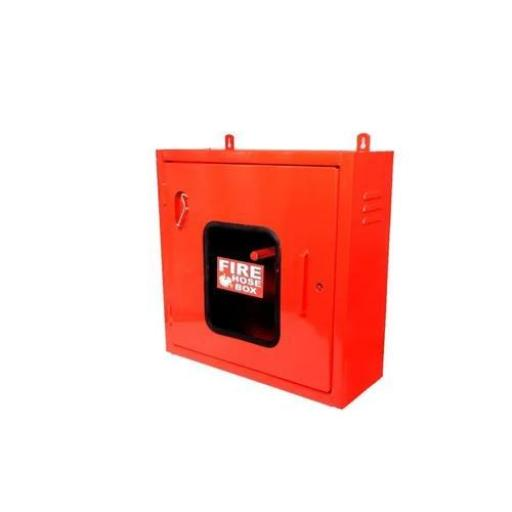fire_hose: (143, 128, 395, 414)
